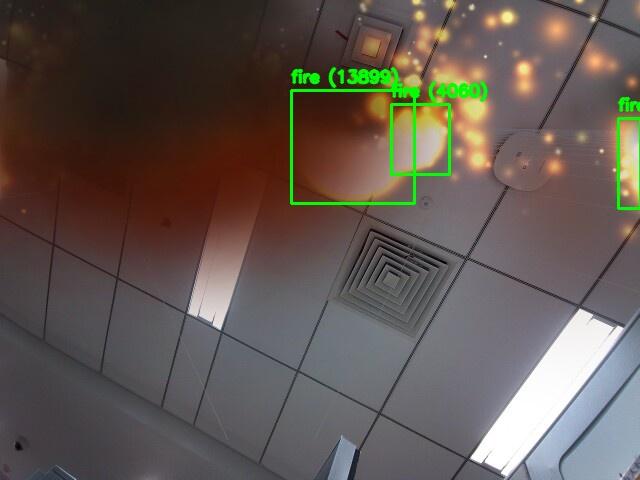fire: (291, 90, 414, 203), (391, 104, 449, 174), (618, 118, 640, 208)
